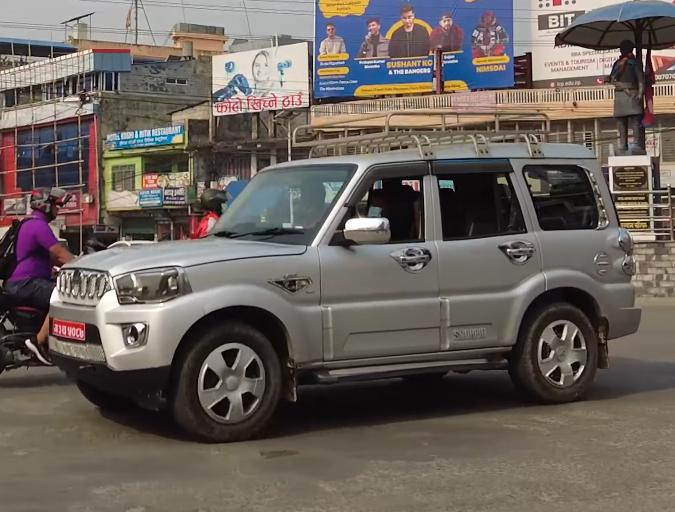SUV: (41, 102, 651, 448)
